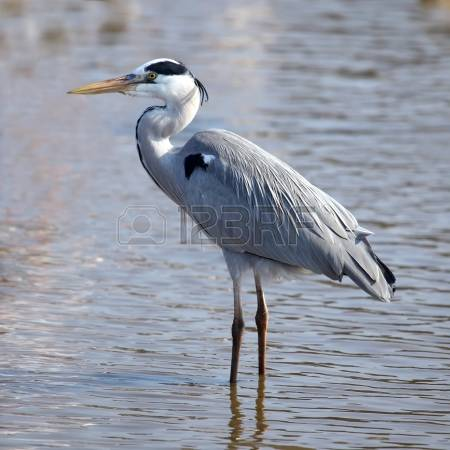heron: (65, 54, 403, 394)
